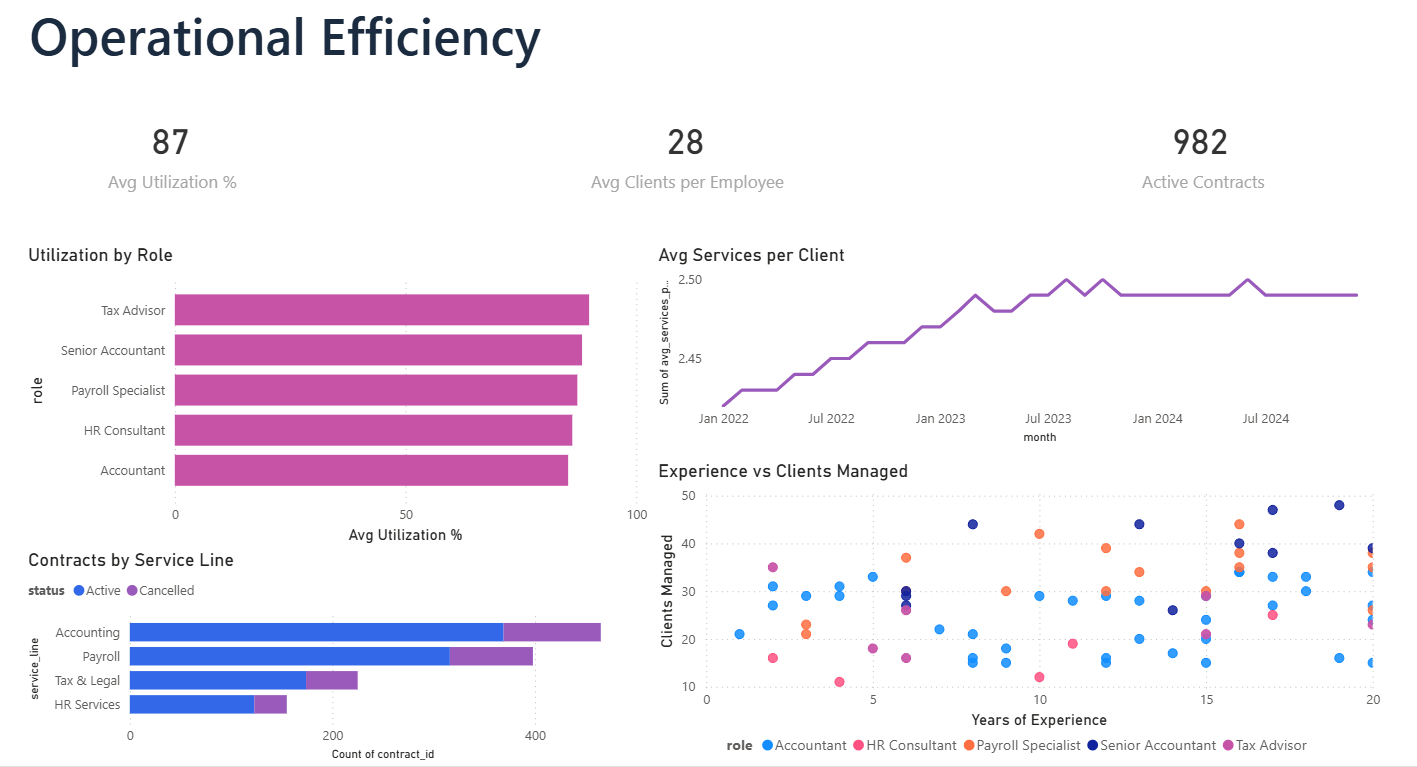

What the dashboard file says about the page in this screenshot:
{"tool":"powerbi","page":{"name":"Operational Efficiency","canvas":[1280,720],"ordinal":3},"visuals":[{"type":"advanceCardE03760C5AB684758B56AA29F9E6C257B","fields":{"mainMeasure":["_Measures.Avg Utilization %"]},"box":[9.8,85.1,280.3,129.7],"z":0},{"type":"advanceCardE03760C5AB684758B56AA29F9E6C257B","fields":{"mainMeasure":["_Measures.Avg Clients per Employee"]},"box":[490.2,85.1,280.3,129.7],"z":1},{"type":"advanceCardE03760C5AB684758B56AA29F9E6C257B","fields":{"mainMeasure":["_Measures.Active Contracts"]},"box":[970.7,85.1,280.3,129.7],"z":2},{"type":"textbox","box":[10,0,960,85.7],"z":3},{"type":"barChart","title":"Utilization by Role","fields":{"Category":["employees.role"],"Y":["_Measures.Avg Utilization %"]},"box":[9.8,232.9,587.1,284.5],"z":4},{"type":"barChart","title":"Contracts by Service Line","fields":{"Category":["contracts.service_line"],"Y":["CountNonNull(contracts.contract_id)"],"Series":["contracts.status"]},"box":[9.8,517.4,587.1,202.2],"z":5},{"type":"scatterChart","title":"Experience vs Clients Managed","fields":{"X":["Sum(employees.years_experience)"],"Y":["Sum(employees.clients_managed)"],"Series":["employees.role"],"Category":["employees.employee_id"]},"box":[596.9,435.1,683.4,284.5],"z":6},{"type":"lineChart","title":"Avg Services per Client","fields":{"Category":["monthly_kpis.month"],"Y":["Sum(monthly_kpis.avg_services_per_client)"]},"box":[596.9,232.9,683.4,191.1],"z":7}]}

Visuals, with their boxes on the page's 1280x720 design canvas (x1, y1, x2, y2). These are canvas units, not pixel positions in the 1417x767 screenshot, which may show the page scaled, cropped or inside an application window:
advanceCardE03760C5AB684758B56AA29F9E6C257B - _Measures.Avg Utilization %: bbox(10, 85, 290, 215)
advanceCardE03760C5AB684758B56AA29F9E6C257B - _Measures.Avg Clients per Employee: bbox(490, 85, 770, 215)
advanceCardE03760C5AB684758B56AA29F9E6C257B - _Measures.Active Contracts: bbox(971, 85, 1251, 215)
textbox: bbox(10, 0, 970, 86)
"Utilization by Role" barChart: bbox(10, 233, 597, 517)
"Contracts by Service Line" barChart: bbox(10, 517, 597, 720)
"Experience vs Clients Managed" scatterChart: bbox(597, 435, 1280, 720)
"Avg Services per Client" lineChart: bbox(597, 233, 1280, 424)
